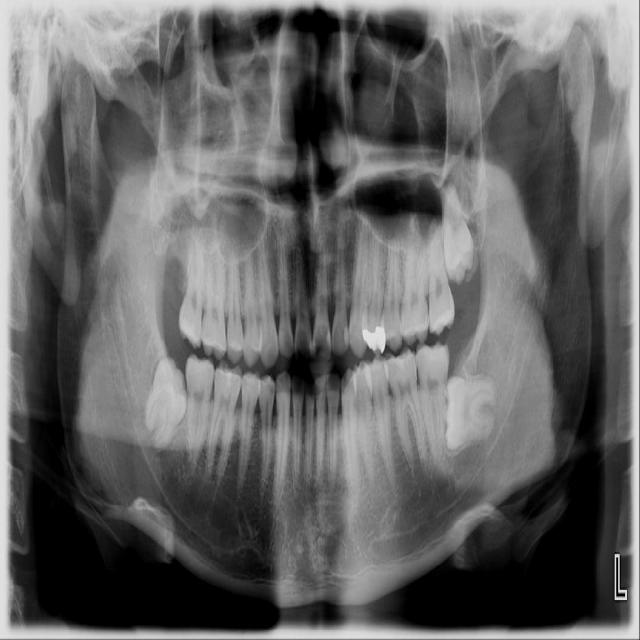Filling: (363, 326, 387, 352)
impacted tooth: (142, 357, 187, 448), (445, 375, 498, 448), (442, 182, 474, 284)
